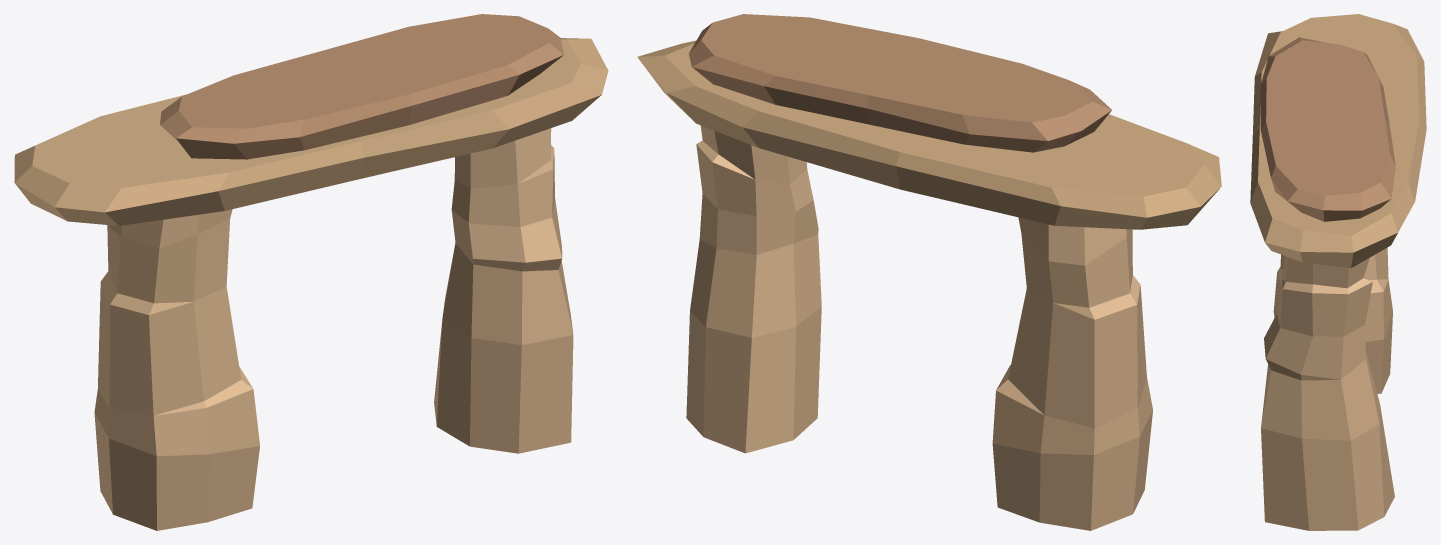
Rendered from Rock_Arch_01.fbx.
The picture shows the model from 3 angles, left to right: view 1: azimuth 30°, elevation 25°; view 2: azimuth 150°, elevation 25°; view 3: azimuth 270°, elevation 25°; orthographic projection. The views are drawn at different scales.
Visible parts, largest first — view 1: Rock_Arch_01; view 2: Rock_Arch_01; view 3: Rock_Arch_01.
Part boxes in pixels (x1=…): Rock_Arch_01: x1=14, y1=14, x2=608, y2=530; Rock_Arch_01: x1=637, y1=14, x2=1221, y2=530; Rock_Arch_01: x1=1250, y1=14, x2=1426, y2=530.
Bounding box in the file's own units: 701 × 454 × 218.
